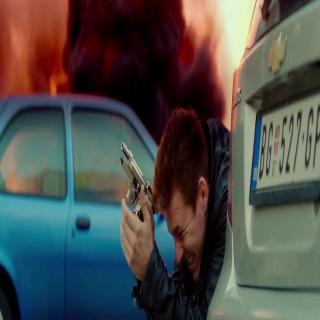gun: (113, 136, 159, 270)
